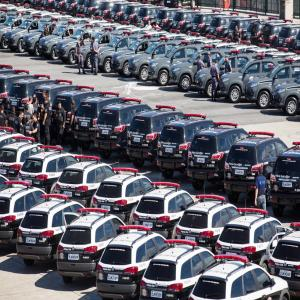Vehicle-registration-plate: (152, 290, 164, 299), (280, 271, 292, 278), (69, 254, 80, 261), (109, 275, 120, 282), (144, 223, 154, 229), (186, 237, 196, 243), (27, 239, 36, 245), (64, 192, 73, 198), (102, 206, 111, 212), (236, 170, 245, 176), (283, 184, 293, 189), (197, 159, 206, 164), (103, 131, 110, 136), (166, 149, 173, 154), (1, 170, 7, 175), (134, 138, 140, 143), (26, 181, 33, 185), (13, 101, 18, 106), (82, 123, 88, 127)
